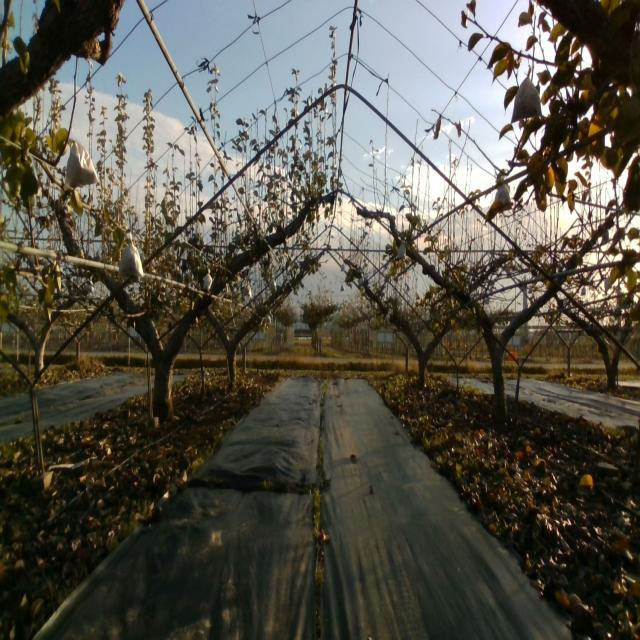pearbags: (511, 65, 544, 123), (64, 138, 100, 188), (119, 231, 144, 278), (494, 186, 512, 206), (395, 241, 406, 260)
